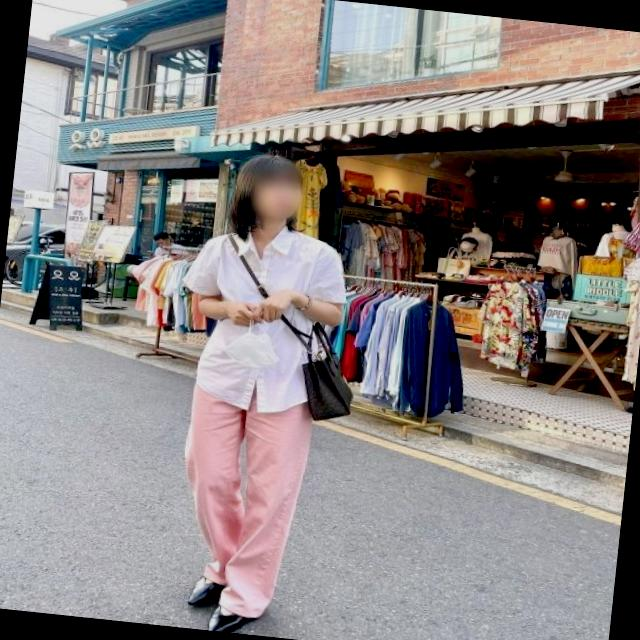cottonpants: (168, 368, 310, 622)
shirt: (170, 215, 355, 422)
